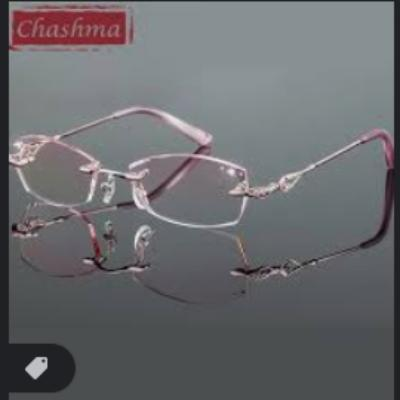glasses: (11, 102, 398, 238)
